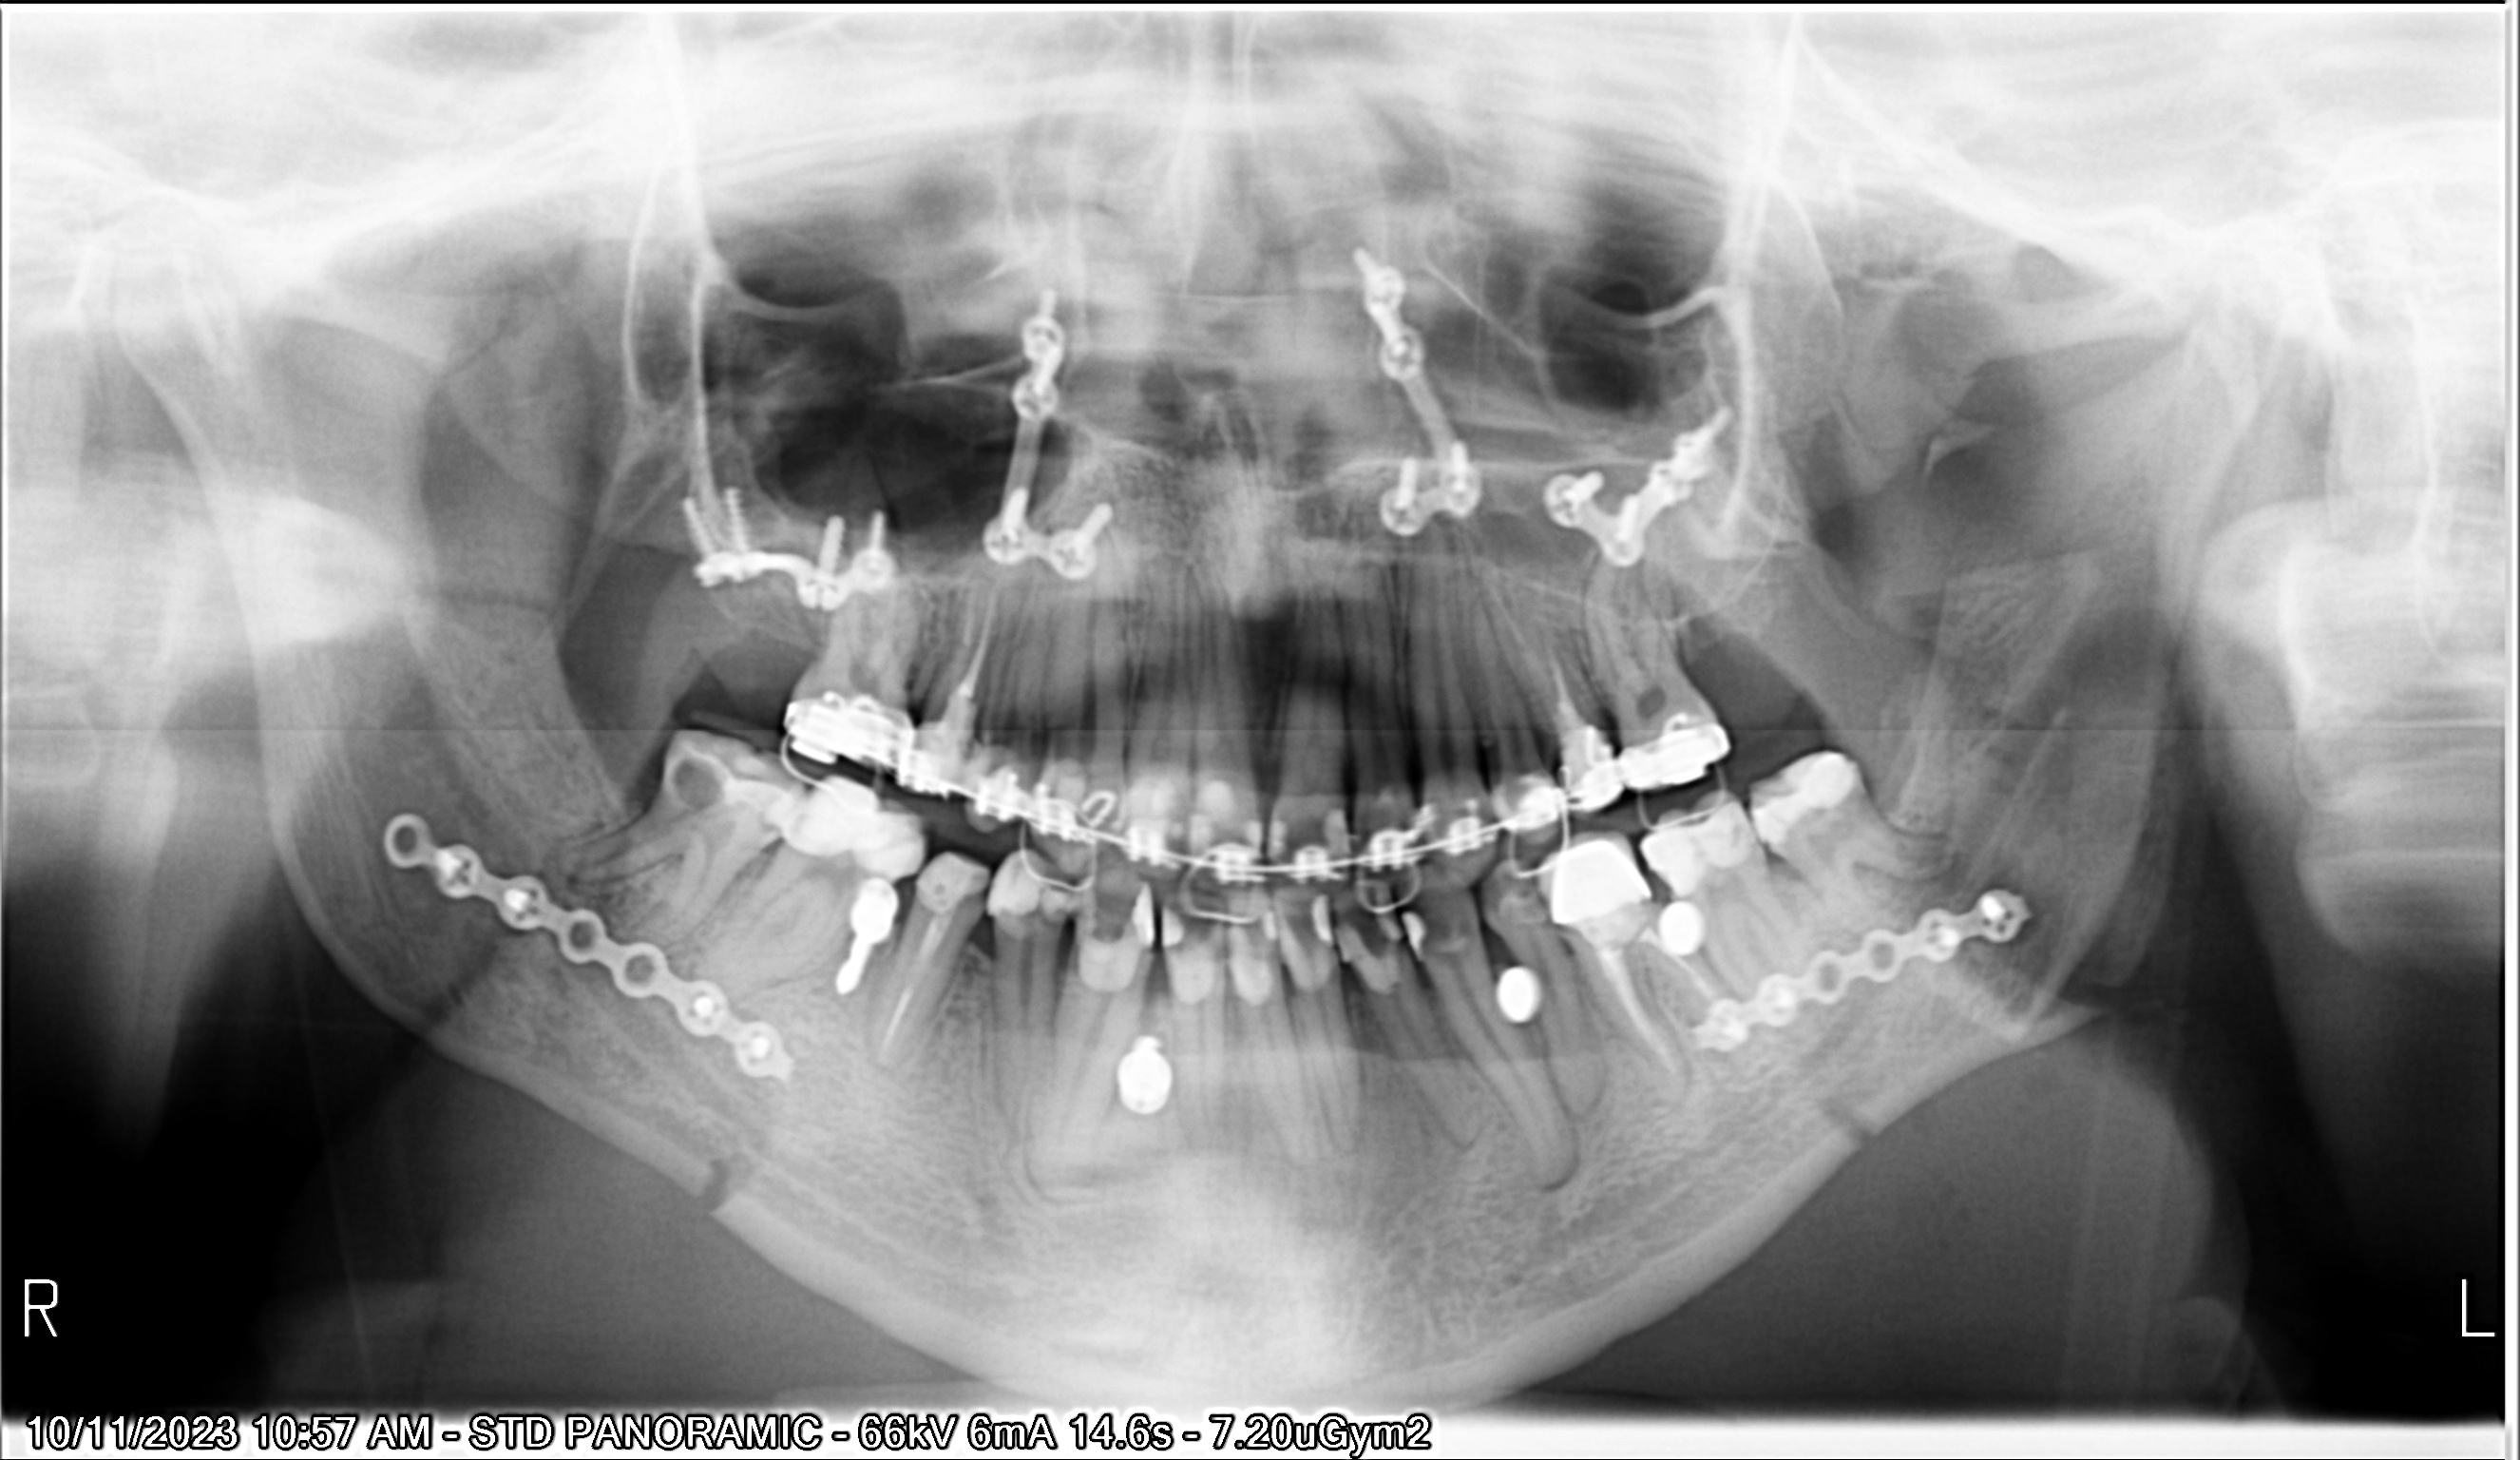CAR: (658, 740, 745, 819), (1633, 871, 1693, 911), (743, 805, 780, 857), (955, 871, 997, 916)
END: (1582, 921, 1733, 1093), (1478, 570, 1605, 733), (927, 567, 1013, 733), (860, 921, 948, 1060)
OBT: (769, 770, 941, 886), (1740, 754, 1869, 841), (983, 843, 1077, 944), (1528, 855, 1641, 935), (1652, 798, 1749, 883), (1257, 930, 1351, 1005), (912, 838, 995, 916), (1054, 939, 1146, 1006), (912, 700, 983, 777), (1216, 926, 1280, 1010), (1487, 756, 1558, 827), (1155, 942, 1216, 1025), (1349, 935, 1415, 1012), (1549, 720, 1615, 791), (1304, 794, 1353, 866), (1032, 756, 1101, 805), (1400, 893, 1445, 965), (1299, 888, 1344, 952), (1176, 810, 1231, 862), (1117, 888, 1158, 954), (1146, 904, 1186, 961), (1231, 808, 1276, 857), (1259, 819, 1301, 864), (1362, 892, 1398, 939), (1191, 775, 1231, 815), (1249, 890, 1278, 939)
ORD: (735, 678, 1761, 904)
SRD: (358, 791, 827, 1131), (1672, 867, 2051, 1100), (1296, 243, 1483, 539), (1535, 368, 1792, 560), (653, 447, 912, 619), (983, 282, 1122, 581), (808, 860, 908, 1010), (1094, 1027, 1188, 1131), (1473, 958, 1563, 1032), (1652, 885, 1714, 984)
